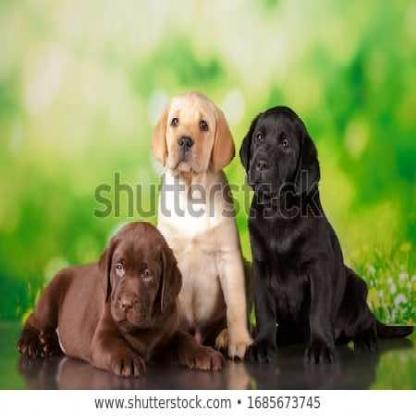dog: (239, 107, 412, 358), (16, 221, 223, 381), (154, 89, 254, 362)
